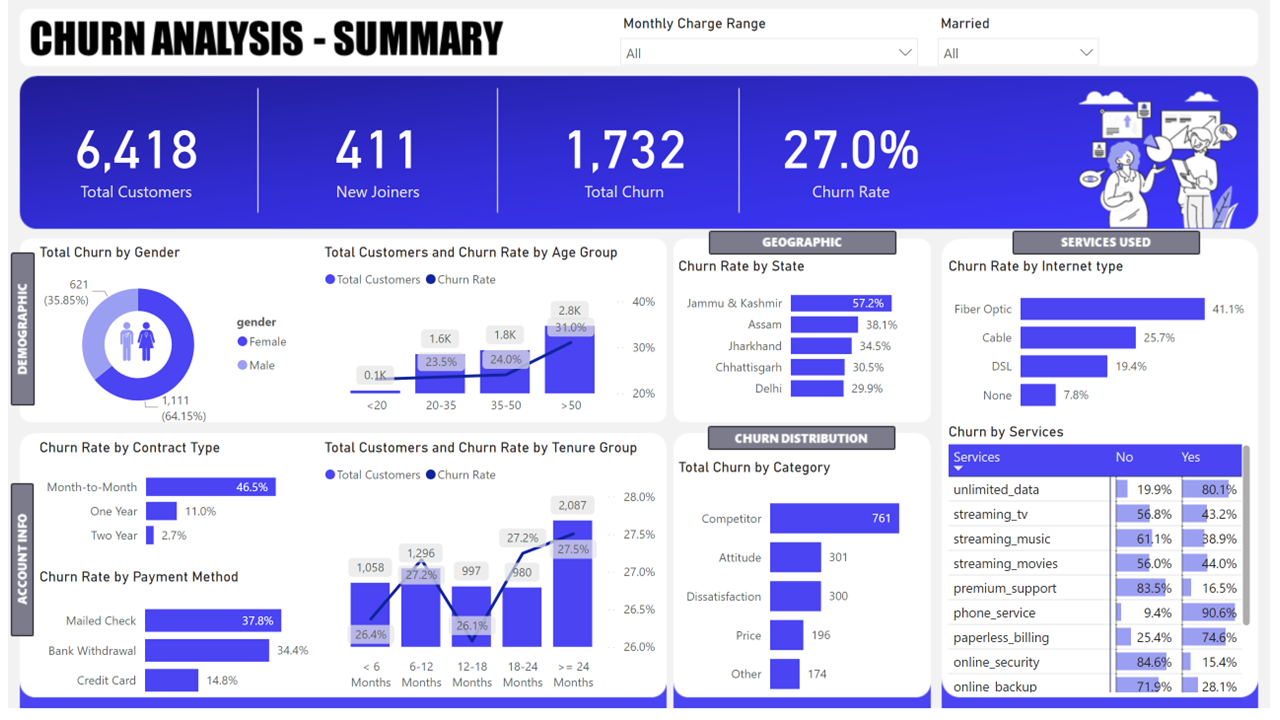

The dashboard page shown, as its layout file describes it:
{"tool":"powerbi","page":{"name":"Summary","canvas":[1280,720],"ordinal":0},"visuals":[{"type":"image","box":[93.6,314.5,74.5,60.9],"z":0},{"type":"card","fields":{"Values":["Churn_Measures.Total_customers"]},"box":[35.5,85,190,140],"z":1000},{"type":"card","fields":{"Values":["Churn_Measures.Churn_rate"]},"box":[760,85,190,140],"z":2000},{"type":"card","fields":{"Values":["Churn_Measures.Total_churn"]},"box":[530,85,190,140],"z":3000},{"type":"card","fields":{"Values":["Churn_Measures.New_Joiners"]},"box":[280,85,190,140],"z":4000},{"type":"donutChart","title":"Total Churn by Gender","fields":{"Category":["public prod_churn.gender"],"Y":["Churn_Measures.Total_churn"]},"box":[27.3,247.3,270,188.2],"z":5000},{"type":"lineStackedColumnComboChart","title":"Total Customers and Churn Rate by Age Group","fields":{"Category":["Mapping_AgeGrp.Age_group"],"Y":["Churn_Measures.Total_customers"],"Y2":["Churn_Measures.Churn_rate"]},"box":[316.4,247.3,345.5,181.8],"z":6000},{"type":"clusteredBarChart","title":"Churn Rate by Payment Method","fields":{"Category":["public prod_churn.payment_method"],"Y":["Churn_Measures.Churn_rate"]},"box":[27.3,576.4,289.1,143.6],"z":7000},{"type":"clusteredBarChart","title":"Churn Rate by Contract Type","fields":{"Category":["public prod_churn.contract"],"Y":["Churn_Measures.Churn_rate"]},"box":[27.3,445.5,289.1,122.7],"z":8000},{"type":"lineStackedColumnComboChart","title":"Total Customers and Churn Rate by Tenure Group","fields":{"Category":["Mapping_Tenure.Tenure_group"],"Y":["Churn_Measures.Total_customers"],"Y2":["Churn_Measures.Churn_rate"]},"box":[316.4,445.5,345.5,261.8],"z":9000},{"type":"clusteredBarChart","title":"Churn Rate by State","fields":{"Y":["Churn_Measures.Churn_rate"],"Category":["public prod_churn.state"]},"box":[674.5,260.9,258.2,155.5],"z":10000},{"type":"clusteredBarChart","title":"Total Churn by Category","fields":{"Category":["public prod_churn.churn_category"],"Y":["Churn_Measures.Total_churn"]},"box":[674.5,464.5,258.2,255.5],"z":11000},{"type":"clusteredBarChart","title":"Churn Rate by Internet type","fields":{"Category":["public prod_churn.internet_type"],"Y":["Churn_Measures.Churn_rate"]},"box":[949.1,260.9,316.4,168.2],"z":12000},{"type":"pivotTable","title":"Churn by Services","fields":{"Rows":["prod_services.Services"],"Columns":["prod_services.Status"],"Values":["Sum(prod_services.customer status)"]},"box":[949.1,429.1,316.4,278.2],"z":13000},{"type":"slicer","fields":{"Values":["public prod_churn.Monthly charge status"]},"box":[610.9,10,321.8,65.5],"z":14000},{"type":"slicer","fields":{"Values":["public prod_churn.married"]},"box":[932.7,10,183.6,61.8],"z":15000}]}

Visuals, with their boxes in screenshot pixels (x1, y1, x2, y2), scaled from the page's 1280x720 canvas onto the 1280x720 screenshot:
image: x1=94, y1=314, x2=168, y2=375
card - Churn_Measures.Total_customers: x1=36, y1=85, x2=226, y2=225
card - Churn_Measures.Churn_rate: x1=760, y1=85, x2=950, y2=225
card - Churn_Measures.Total_churn: x1=530, y1=85, x2=720, y2=225
card - Churn_Measures.New_Joiners: x1=280, y1=85, x2=470, y2=225
"Total Churn by Gender" donutChart: x1=27, y1=247, x2=297, y2=436
"Total Customers and Churn Rate by Age Group" lineStackedColumnComboChart: x1=316, y1=247, x2=662, y2=429
"Churn Rate by Payment Method" clusteredBarChart: x1=27, y1=576, x2=316, y2=719
"Churn Rate by Contract Type" clusteredBarChart: x1=27, y1=446, x2=316, y2=568
"Total Customers and Churn Rate by Tenure Group" lineStackedColumnComboChart: x1=316, y1=446, x2=662, y2=707
"Churn Rate by State" clusteredBarChart: x1=674, y1=261, x2=933, y2=416
"Total Churn by Category" clusteredBarChart: x1=674, y1=464, x2=933, y2=719
"Churn Rate by Internet type" clusteredBarChart: x1=949, y1=261, x2=1266, y2=429
"Churn by Services" pivotTable: x1=949, y1=429, x2=1266, y2=707
slicer - public prod_churn.Monthly charge status: x1=611, y1=10, x2=933, y2=76
slicer - public prod_churn.married: x1=933, y1=10, x2=1116, y2=72
